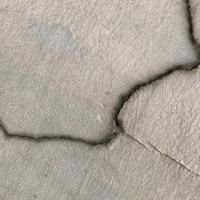crack: (2, 0, 199, 153)
